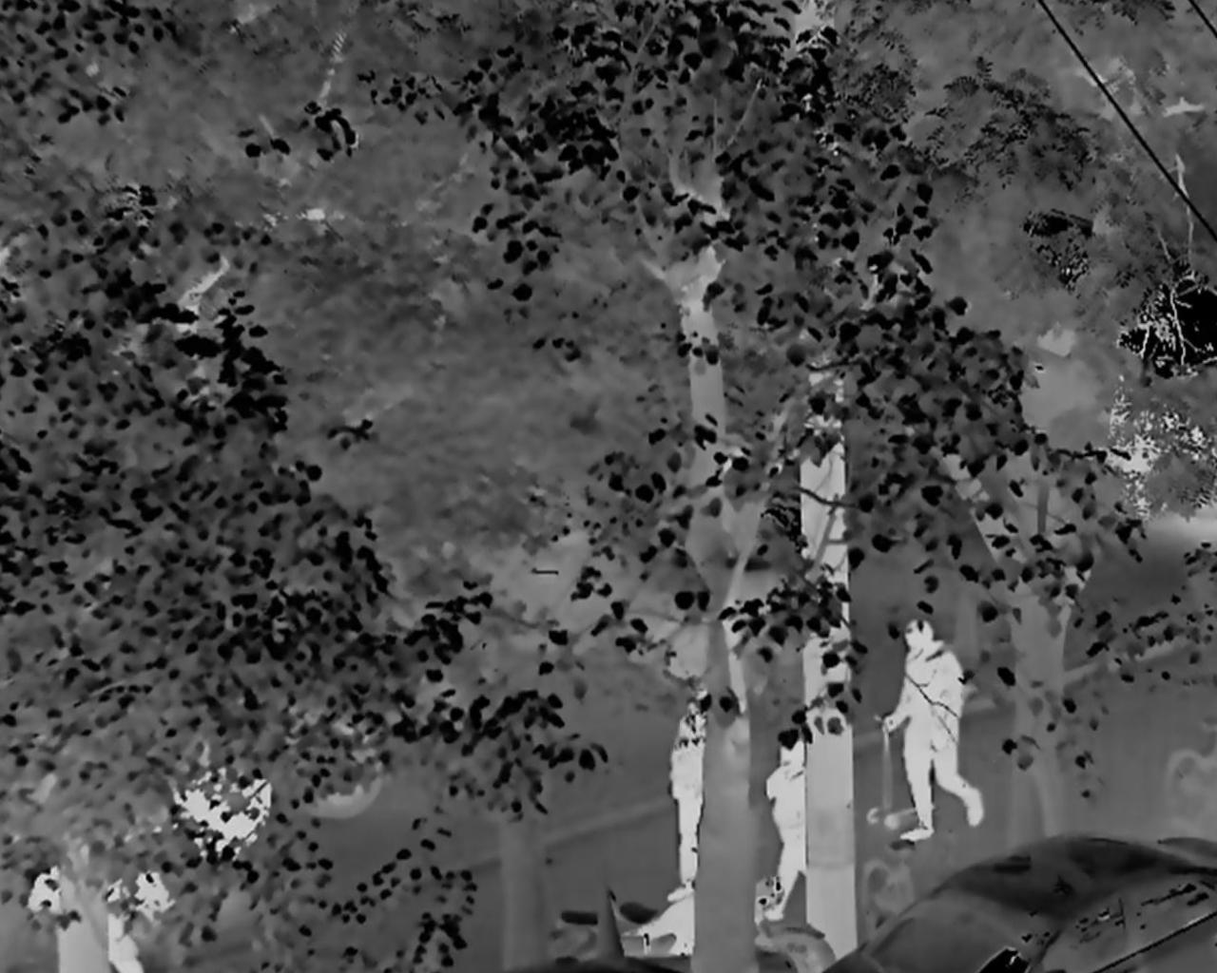person: (881, 617, 985, 841), (664, 696, 705, 901), (763, 733, 806, 920), (106, 869, 173, 973)
